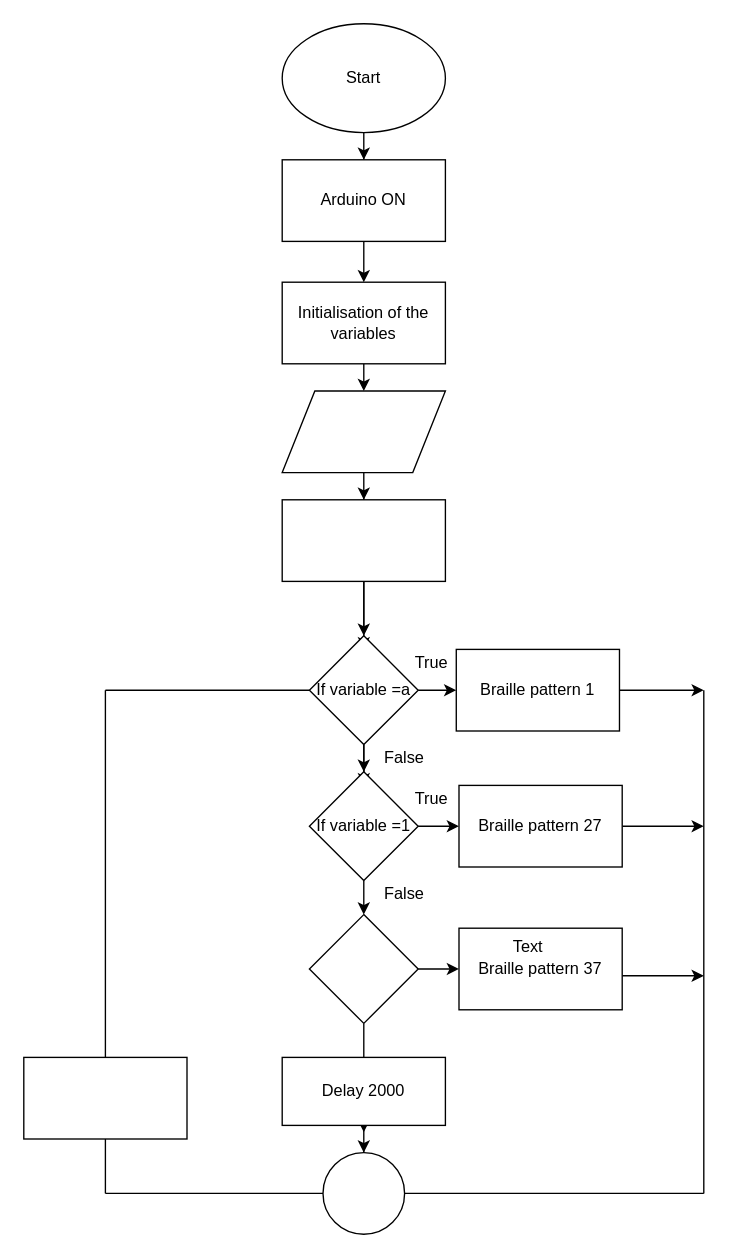
Image size: 738x1258. Some labels were removed from this diagram. Each missing label, with the centre of its shape:
"If variable = '/'" belongs at pixel 363 968.
"Input is accepted from keyboard" belongs at pixel 363 431.
"Store the character in the variable" belongs at pixel 363 539.
"Update the counter" belongs at pixel 104 1097.
